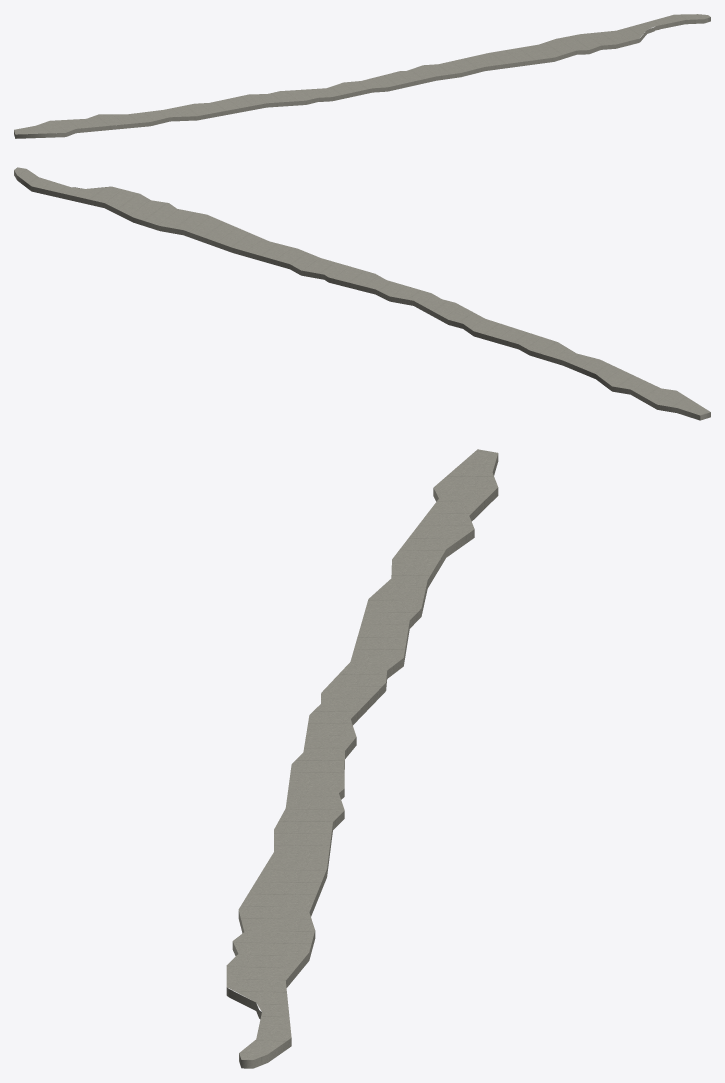
File: curb_03.gltf
3 renders of one model, top to bottom at view 1: azimuth 30°, elevation 25°; view 2: azimuth 150°, elevation 25°; view 3: azimuth 270°, elevation 25°, orthographic. The views are drawn at different scales.
Parts seen in each view (by area): view 1: curb_03.surface, curb_03.sides; view 2: curb_03.surface, curb_03.sides; view 3: curb_03.surface, curb_03.sides.
Part boxes in pixels (box(x1,y1,x2,y2)): curb_03.surface: box(14, 14, 710, 134); curb_03.sides: box(14, 17, 710, 138); curb_03.surface: box(14, 167, 710, 415); curb_03.sides: box(14, 170, 710, 420); curb_03.surface: box(226, 449, 497, 1059); curb_03.sides: box(226, 453, 498, 1068).
Bounding box in the file's own units: 24.9 × 0.3612 × 4.6.
1 material, 1 textured.
